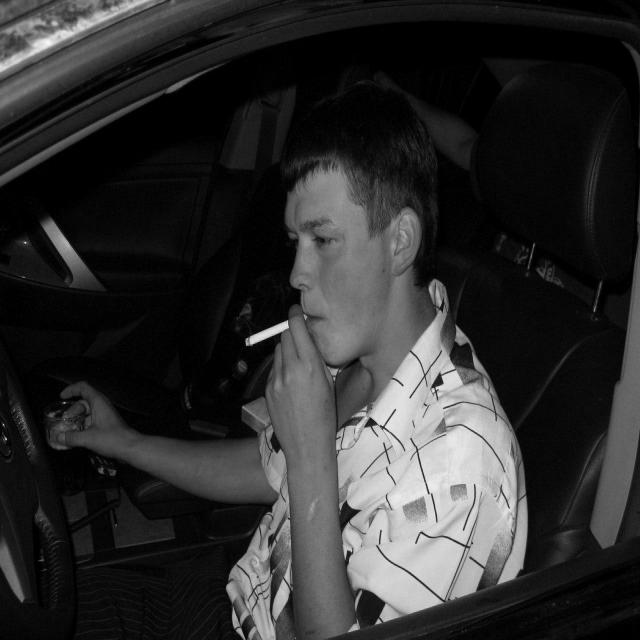Cigarette: (239, 318, 306, 352)
Drinking: (37, 388, 96, 504)
